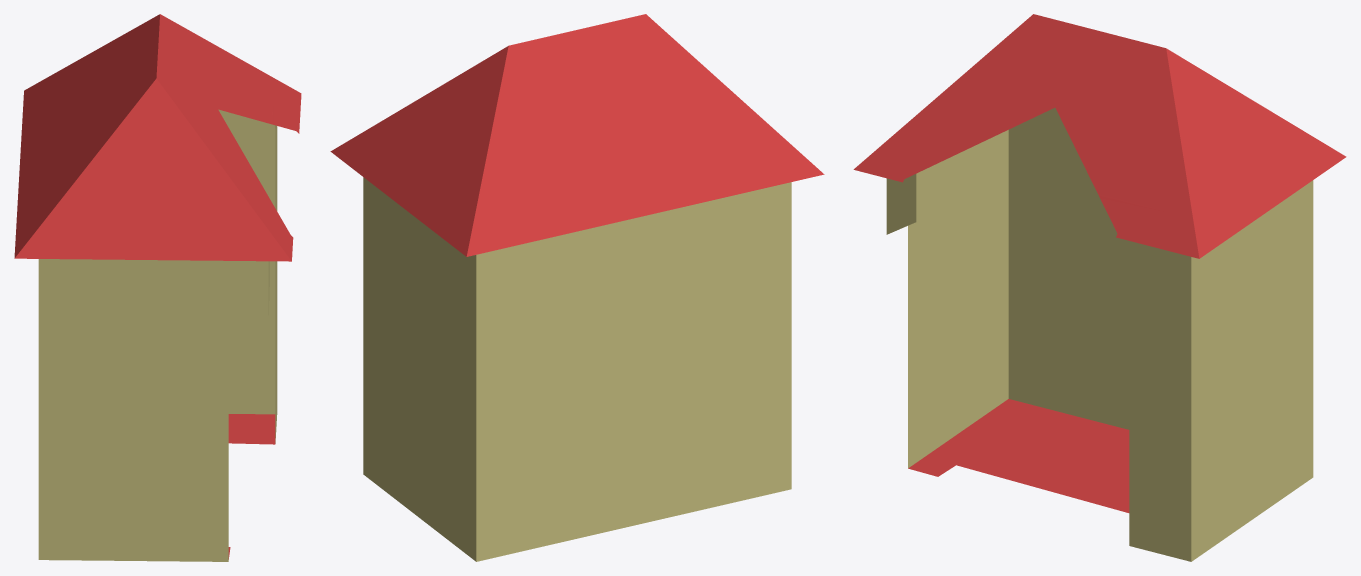
The picture shows the model from 3 angles, left to right: view 1: azimuth 30°, elevation 25°; view 2: azimuth 150°, elevation 25°; view 3: azimuth 270°, elevation 25°; orthographic projection. The views are drawn at different scales.
Parts seen in each view (by area): view 1: group_5, group_3, group_6; view 2: group_5, group_3; view 3: group_5, group_3, group_6, group_4.
Part boxes in pixels (bbox=[...]): group_5: bbox=[38, 109, 277, 561]; group_3: bbox=[14, 14, 301, 261]; group_6: bbox=[228, 414, 275, 559]; group_5: bbox=[363, 177, 791, 561]; group_3: bbox=[330, 14, 824, 256]; group_5: bbox=[886, 108, 1313, 561]; group_3: bbox=[853, 14, 1346, 258]; group_6: bbox=[908, 399, 1129, 512]; group_4: bbox=[855, 142, 1197, 257].
Bounding box in the file's own units: 14.03 × 15.29 × 15.37.
